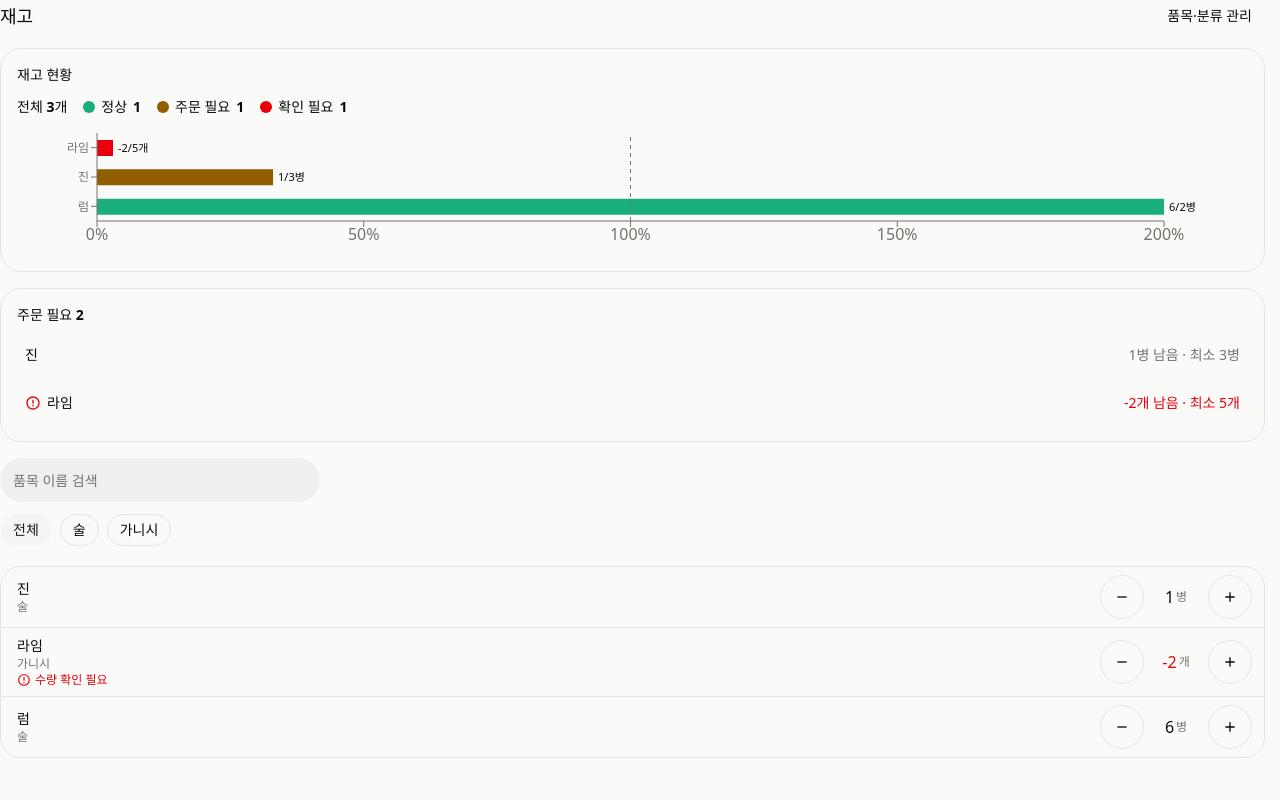
InventoryPage › sets the quantity left from the number button with a numeric keyboard
Expected: the list item "진" is shown, [1, 567, 1264, 628]
Click the button named "진 지금 남은 수량 입력" at (1176, 597), box [1148, 575, 1204, 619]
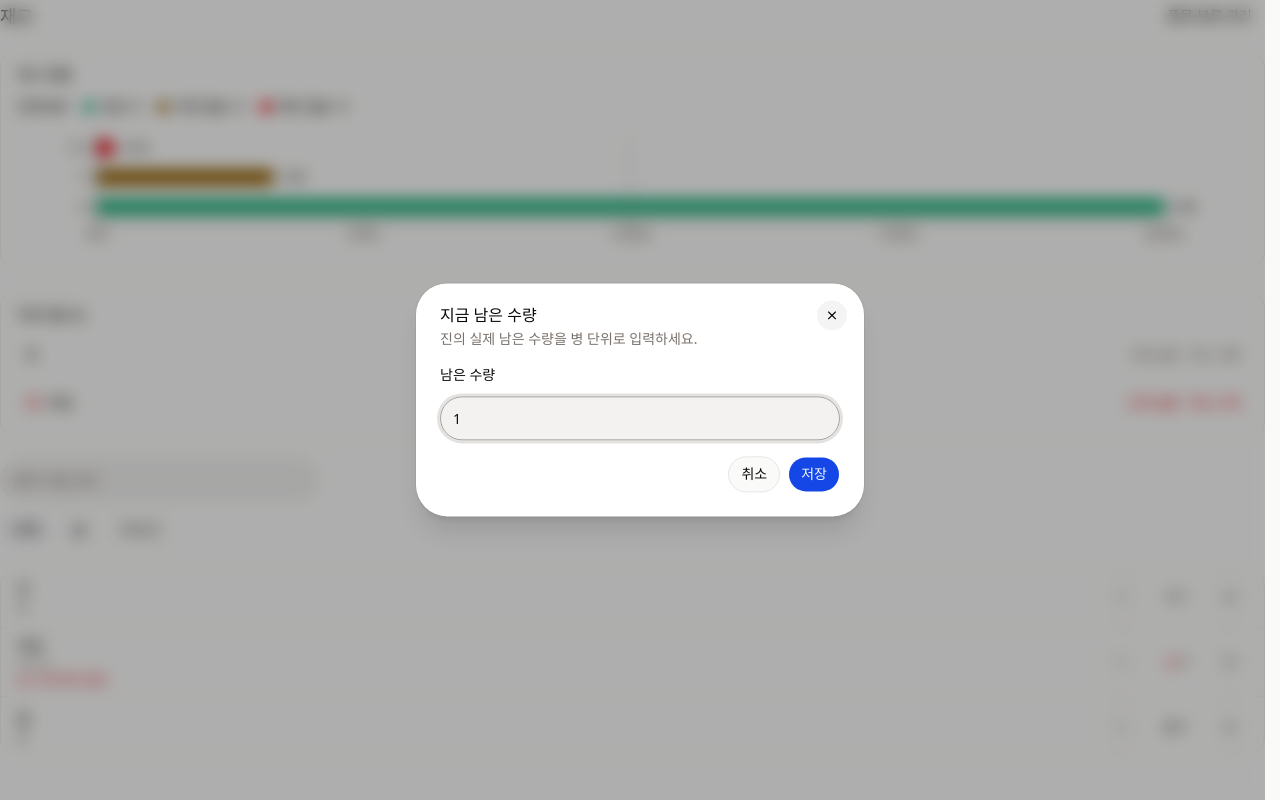
Replace the text in the field labelled "남은 수량" with "-1" at (640, 419), box [440, 397, 840, 441]
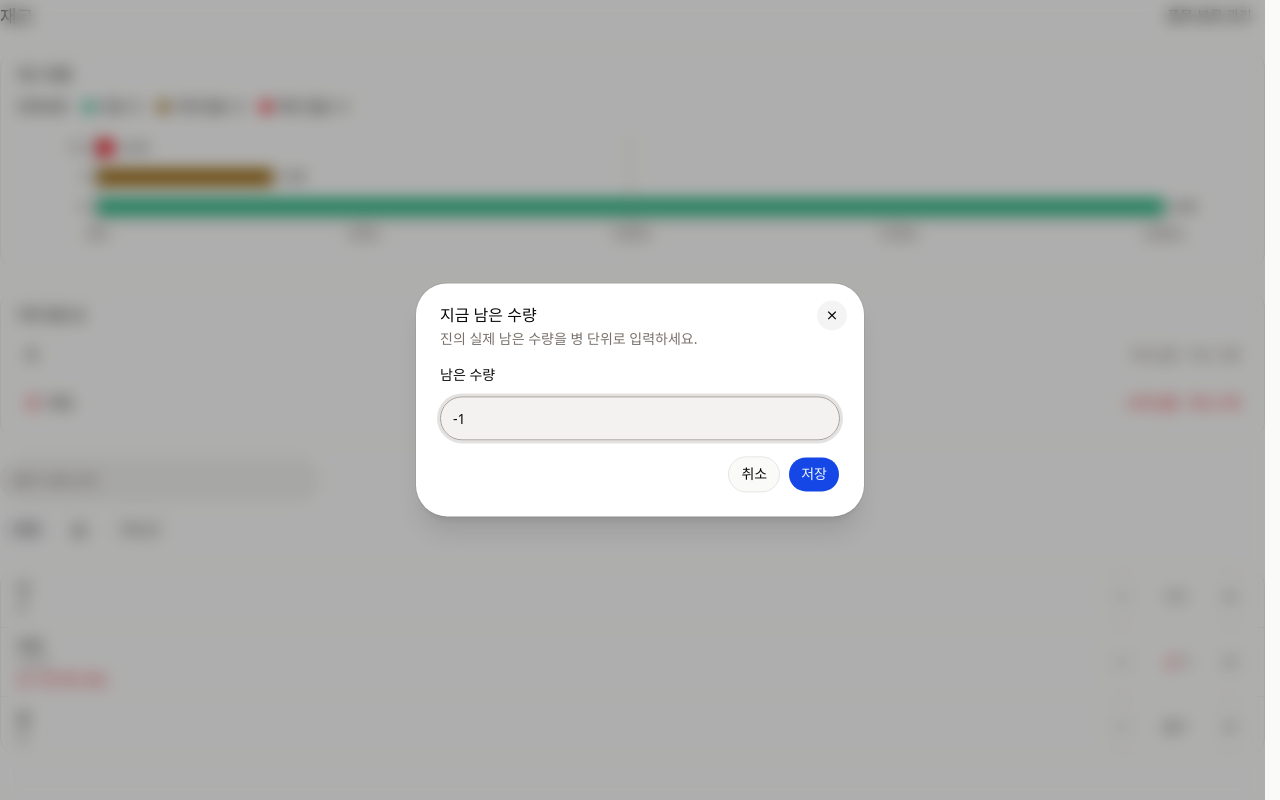
Click the button "저장" at (814, 475), box [788, 457, 840, 493]
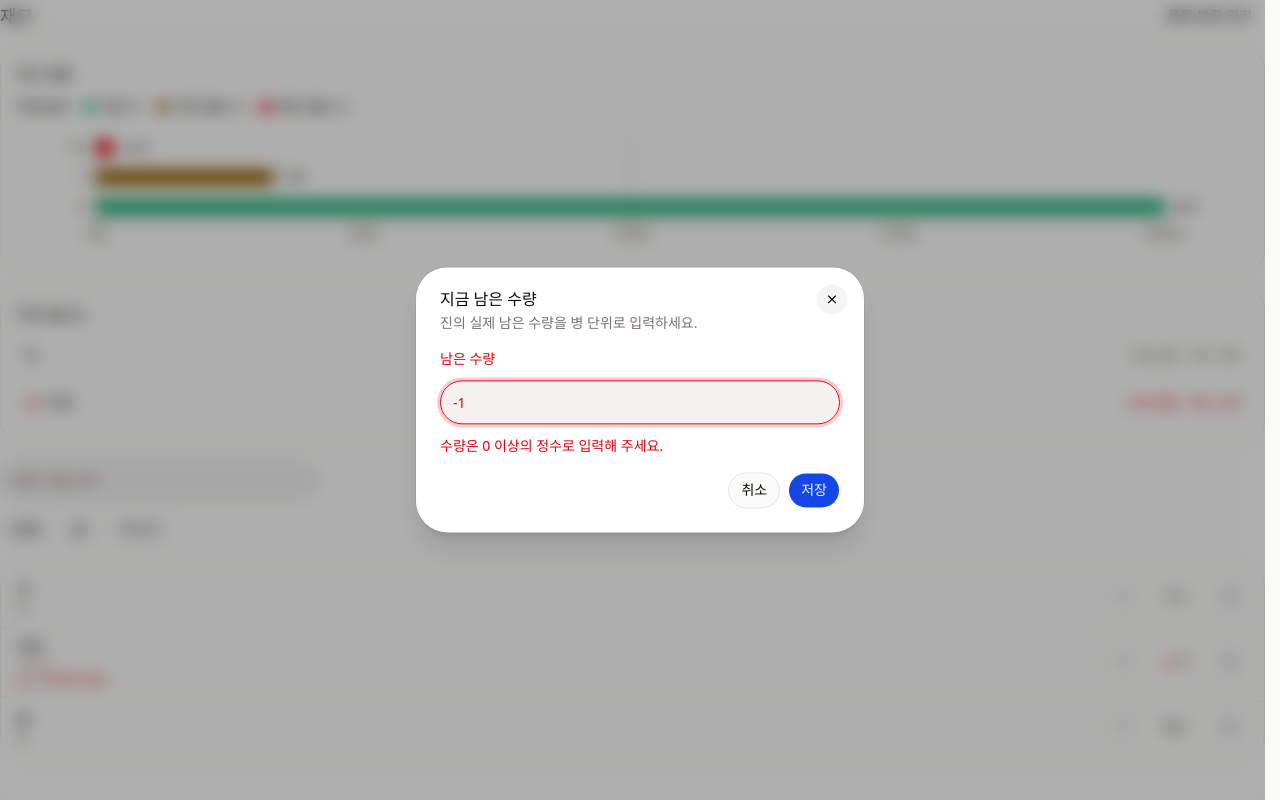
Now the text "수량은 0 이상의 정수로 입력해 주세요." is shown, box [440, 437, 663, 456]
Replace the text in the field labelled "남은 수량" with "7" at (640, 403), box [440, 381, 840, 425]
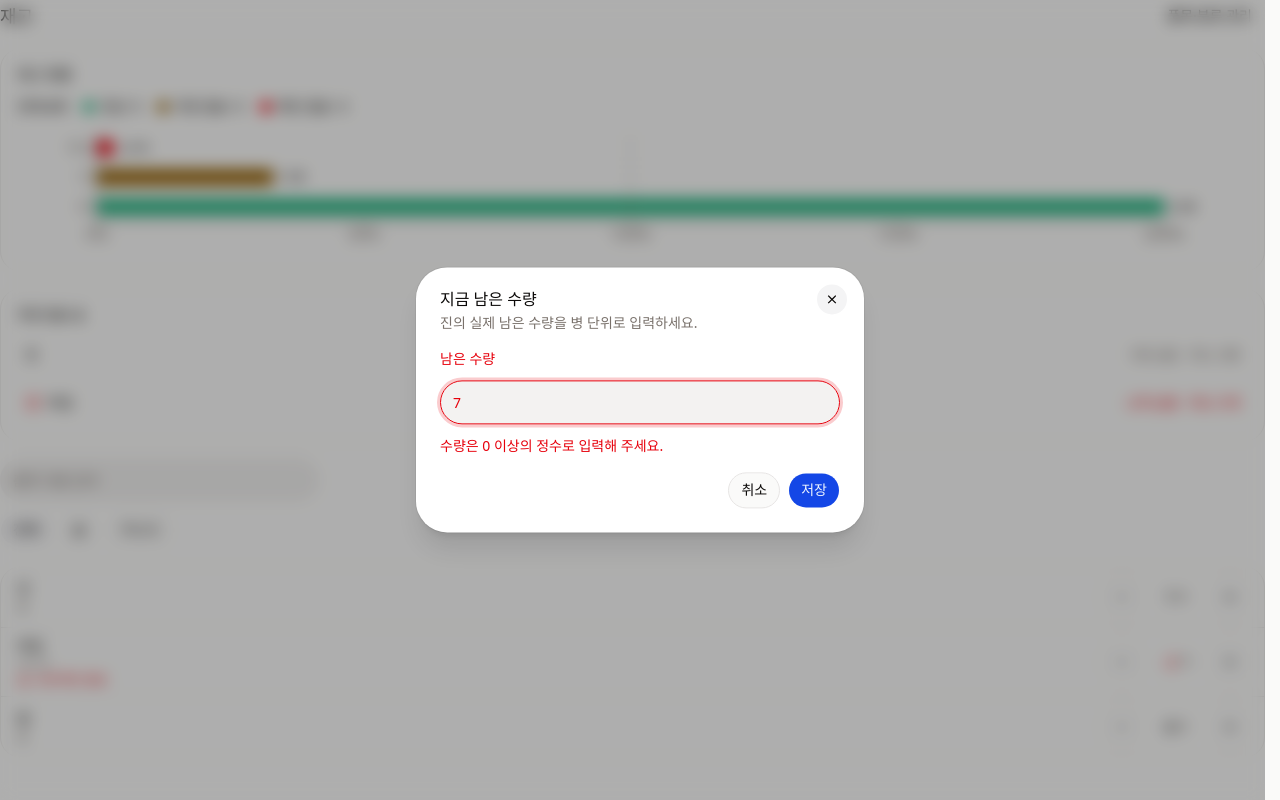
Click the button "저장" at (814, 491), box [788, 473, 840, 509]
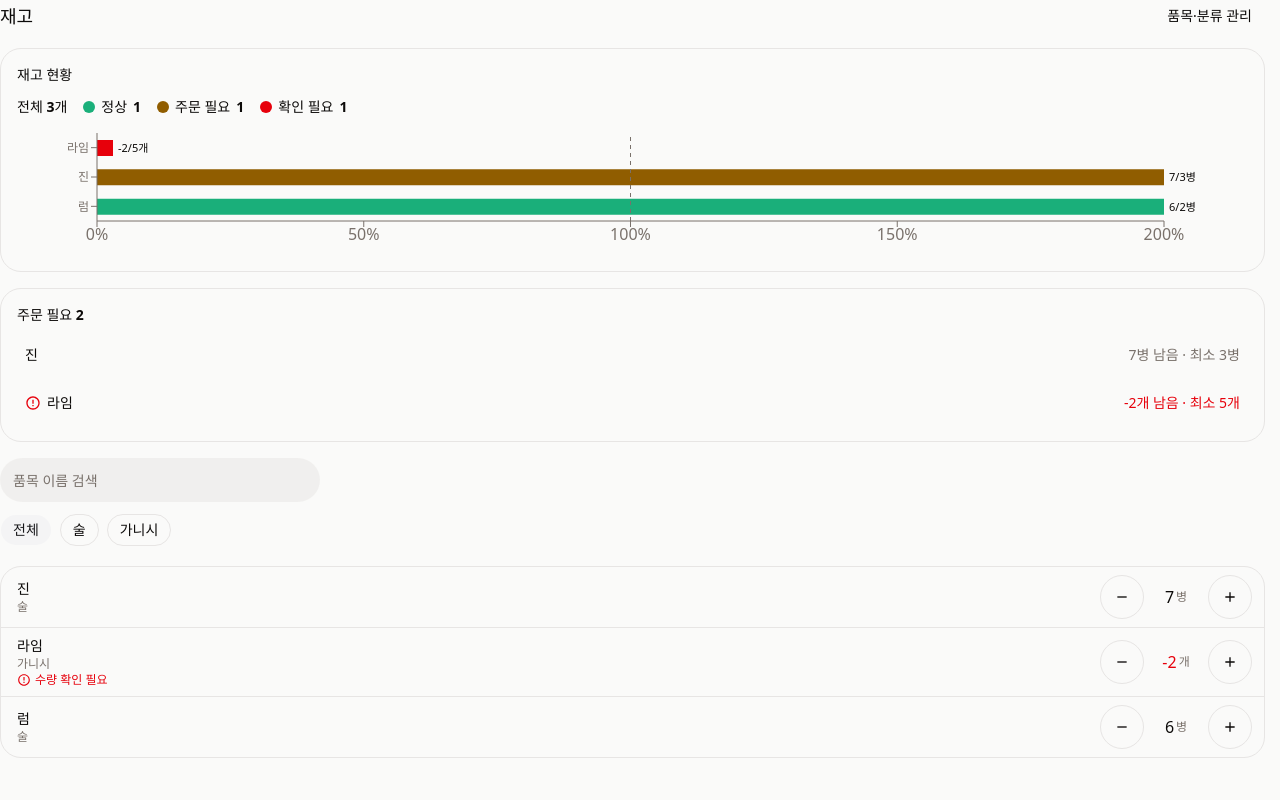
Now the button named "진 지금 남은 수량 입력" shows "7", box [1148, 575, 1204, 619]
